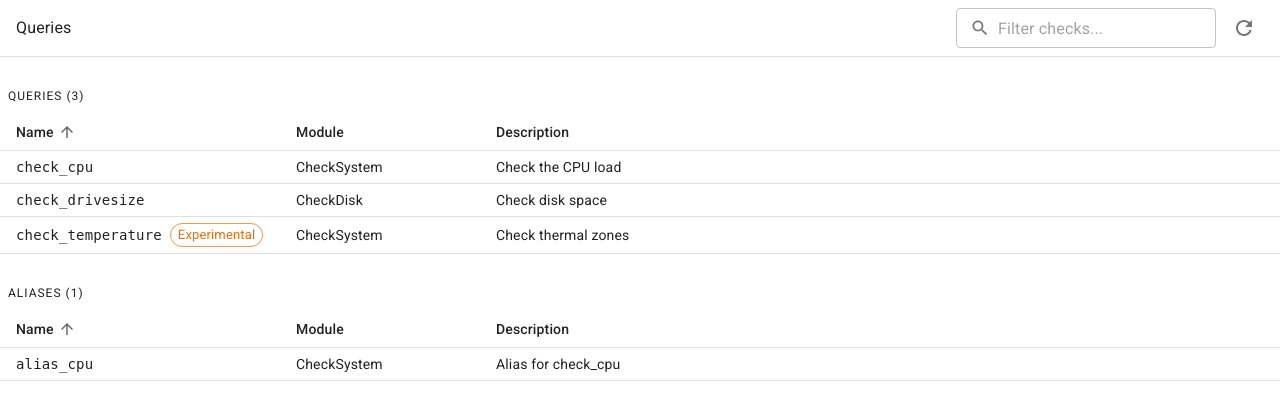
Scenario: Queries page › filters on the experimental marker
Expected: the text "check_cpu" is shown, left=16, top=157, right=93, bottom=177
Type "experimental" into the field with placeholder "Filter checks..." at (1107, 28), box left=998, top=8, right=1216, bottom=48
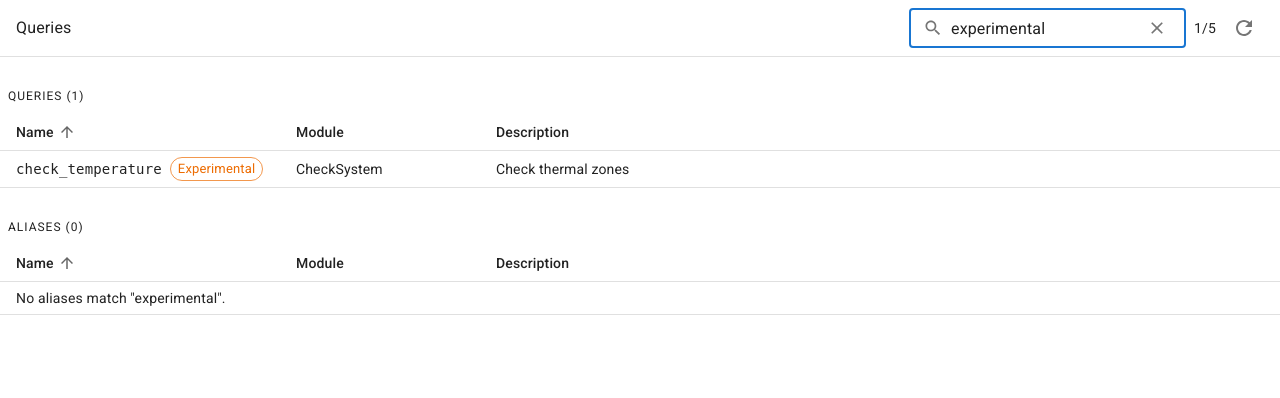
Expected: the text "check_temperature" is shown, left=16, top=159, right=162, bottom=179
Expected: the text "check_cpu" is gone
